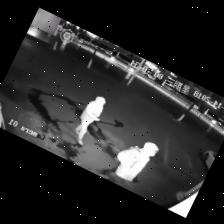person: (109, 142, 157, 183), (73, 97, 104, 145)
